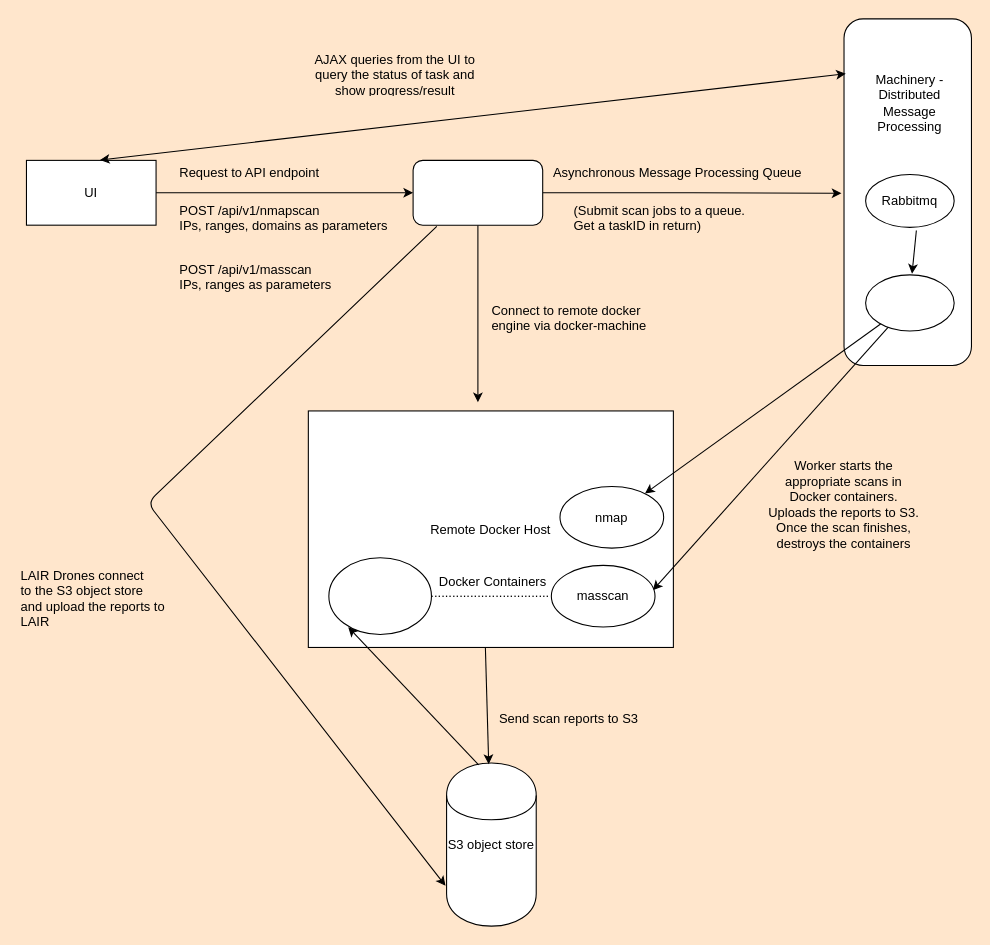
Image size: 990x945. Some labels were removed from this diagram. The shapes that lost their labels are listed below. From the top down, each one's centre as x and y in pixels, then its label:
[477,192]: API Server
[909,302]: Worker
[379,595]: LAIR
